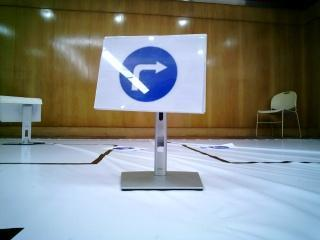right: (106, 36, 206, 117)
